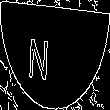N_N: (44, 28, 66, 82)
